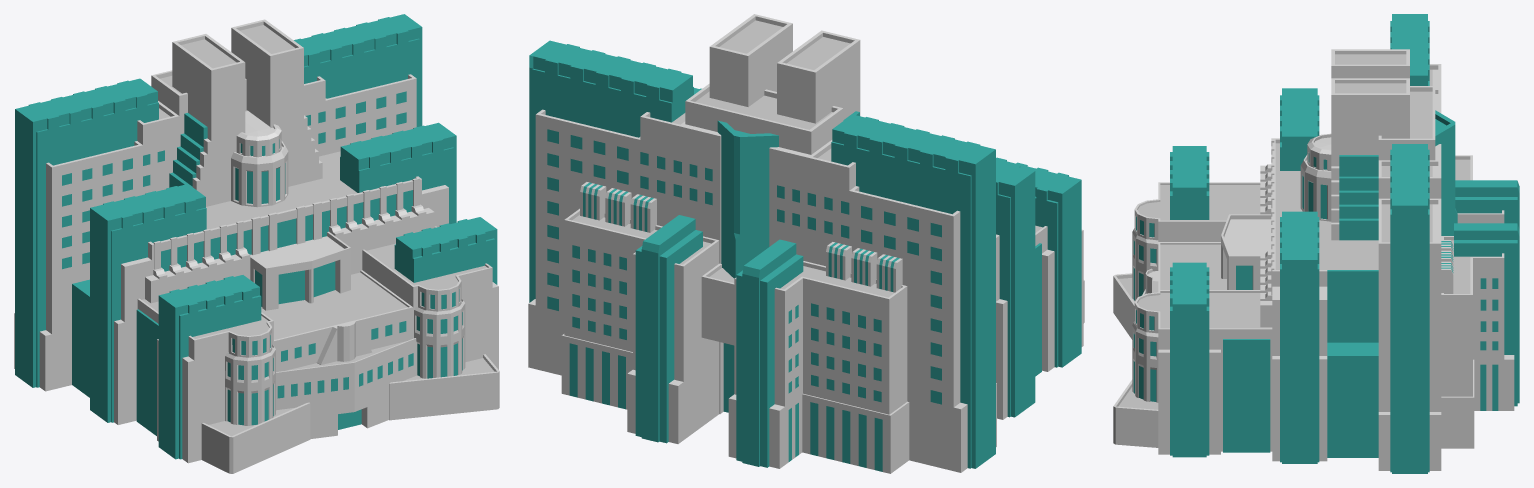
3 views of the same model, side by side, from view 1: azimuth 30°, elevation 25°; view 2: azimuth 150°, elevation 25°; view 3: azimuth 270°, elevation 25° (orthographic). The views are drawn at different scales.
Parts seen in each view (by area): view 1: mid.001; view 2: mid.001; view 3: mid.001.
Boxes of the visible parts, x1=… form: mid.001: x1=14, y1=14, x2=499, y2=473; mid.001: x1=528, y1=14, x2=1084, y2=473; mid.001: x1=1113, y1=14, x2=1519, y2=473.
Size of the model in its own units: 576 by 429 by 516.
